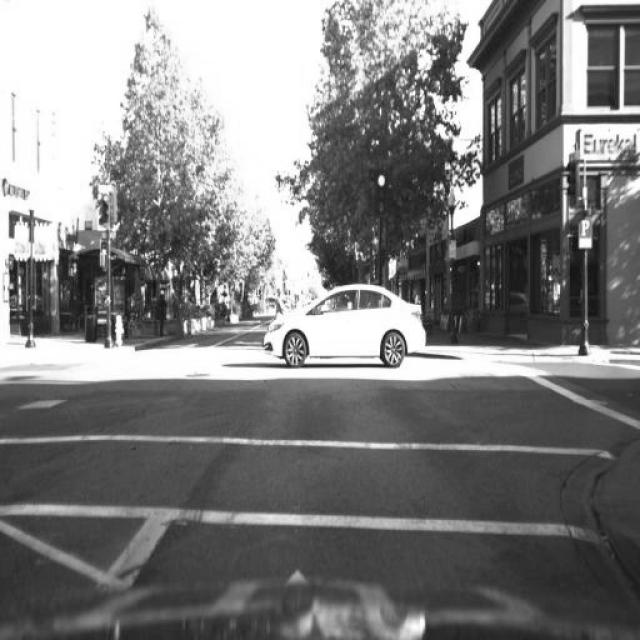semaforo: (375, 173, 388, 218)
